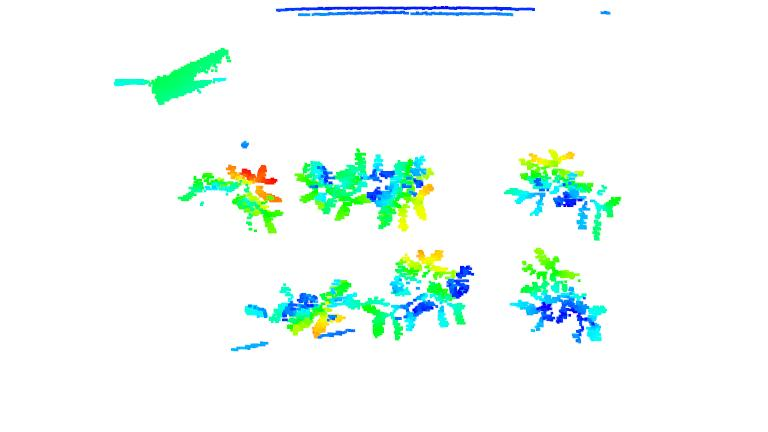chickpea: (500, 148, 622, 242), (359, 246, 475, 339), (509, 246, 607, 347), (172, 160, 285, 234), (243, 276, 361, 336), (295, 147, 374, 222), (369, 150, 436, 233)
